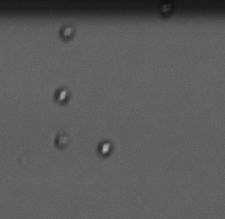Living Cell: (59, 24, 77, 42), (98, 140, 114, 158), (55, 88, 72, 104)
